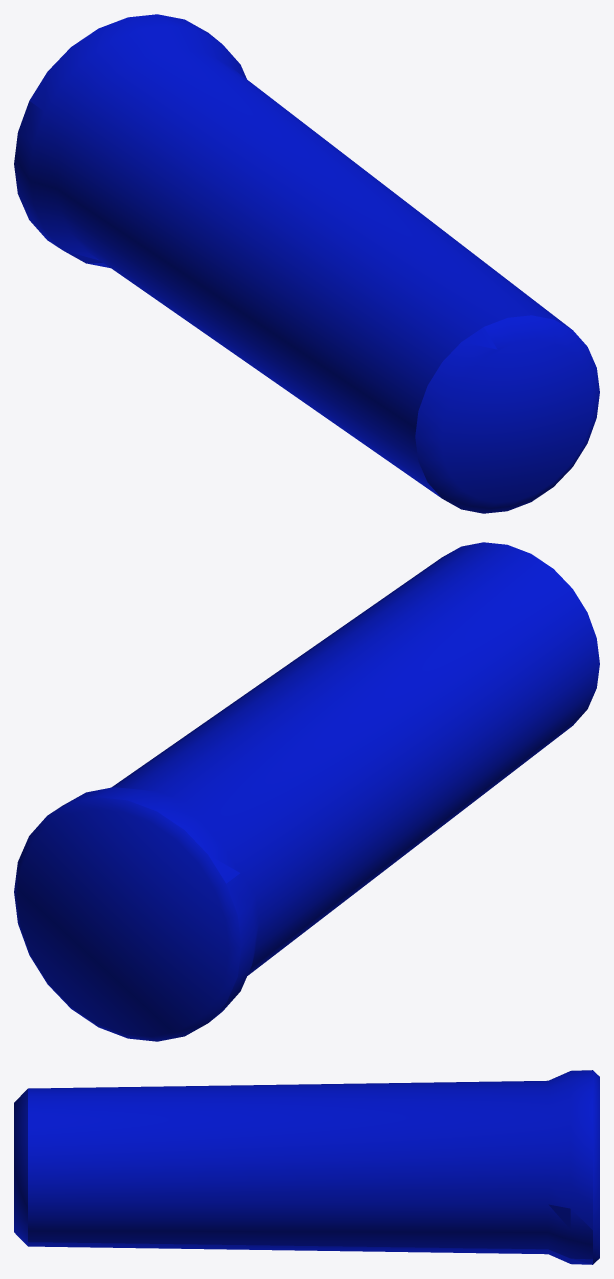
Rendered from M45_Shell.fbx.
3 renders of one model, top to bottom at view 1: azimuth 30°, elevation 25°; view 2: azimuth 150°, elevation 25°; view 3: azimuth 270°, elevation 25°, orthographic. The views are drawn at different scales.
Visible parts, largest first — view 1: Shell1; view 2: Shell1; view 3: Shell1.
Boxes of the visible parts, x1=… form: Shell1: x1=14, y1=14, x2=599, y2=513; Shell1: x1=14, y1=542, x2=599, y2=1041; Shell1: x1=14, y1=1070, x2=599, y2=1264.
Size of the model in its own units: 2.39 by 2.39 by 7.15.
